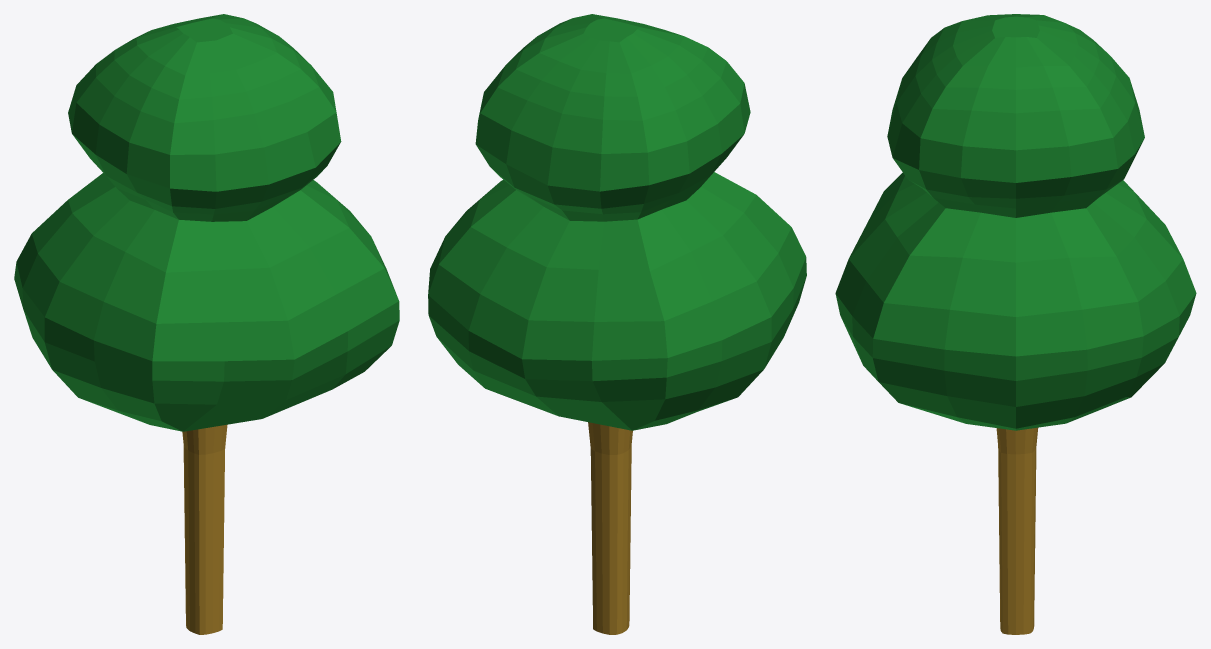
File: taller tree.fbx
The picture shows the model from 3 angles, left to right: view 1: azimuth 30°, elevation 25°; view 2: azimuth 150°, elevation 25°; view 3: azimuth 270°, elevation 25°; orthographic projection.
Parts seen in each view (by area): view 1: Cube, Cube.001; view 2: Cube, Cube.001; view 3: Cube, Cube.001.
Part boxes in pixels (<box>): Cube: <box>14,14,399,431</box>; Cube.001: <box>182,424,227,634</box>; Cube: <box>428,14,806,430</box>; Cube.001: <box>588,422,632,634</box>; Cube: <box>835,14,1196,430</box>; Cube.001: <box>996,427,1038,634</box>.
Size of the model in its own units: 336 by 600 by 327.
